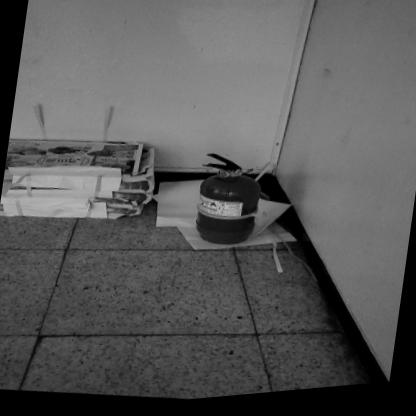FE: (188, 148, 265, 254)
